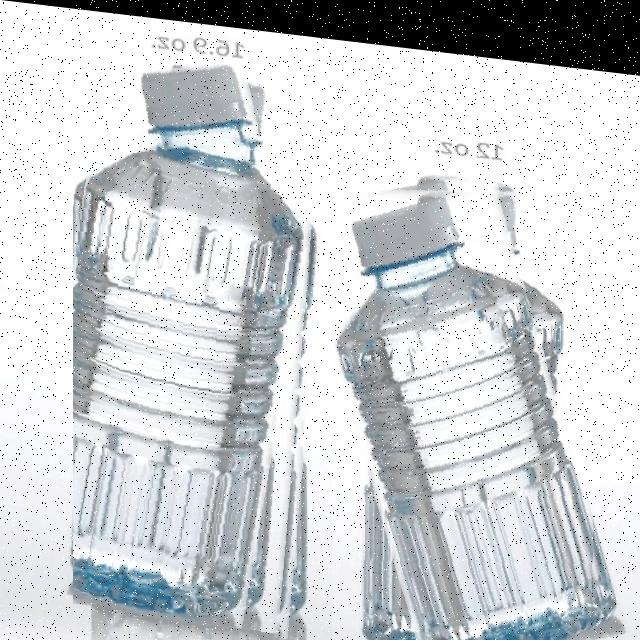litter: (73, 45, 324, 631), (332, 153, 598, 640), (126, 54, 259, 159)
